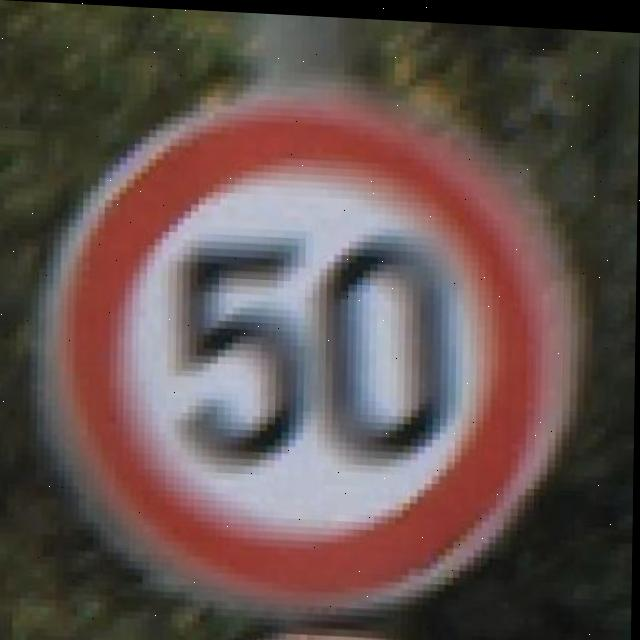Speed limit 50: (31, 72, 594, 624)
